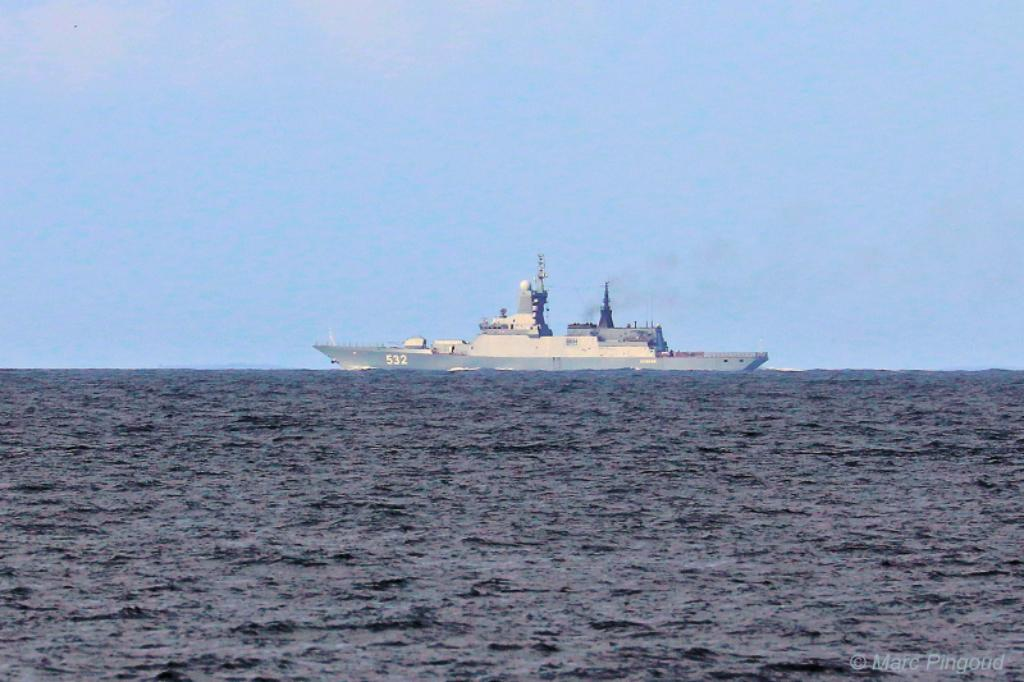Warship: (309, 251, 771, 375)
